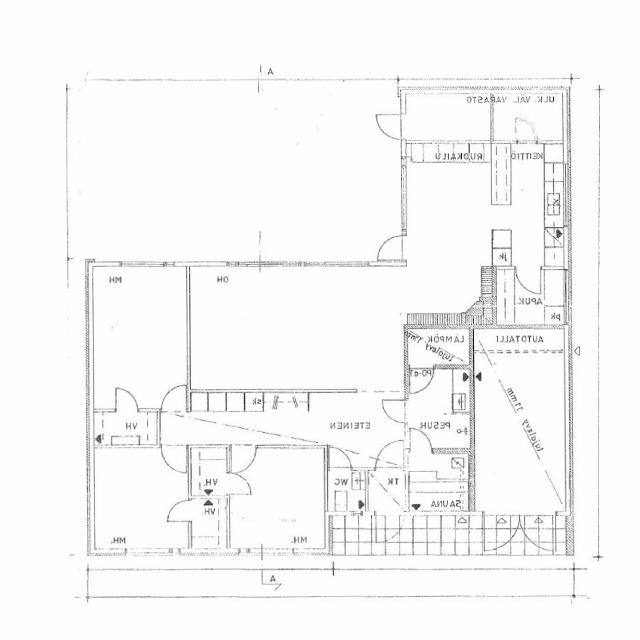door: (520, 511, 556, 552), (485, 511, 520, 552), (376, 512, 405, 544), (376, 439, 404, 471), (376, 235, 406, 260), (376, 114, 406, 139), (516, 266, 541, 294), (232, 444, 256, 473), (162, 444, 186, 473), (411, 364, 434, 393), (162, 384, 185, 412), (383, 400, 410, 422), (410, 426, 431, 454), (116, 387, 138, 412), (166, 501, 192, 522), (226, 472, 252, 493), (330, 445, 351, 471), (516, 120, 537, 144)
